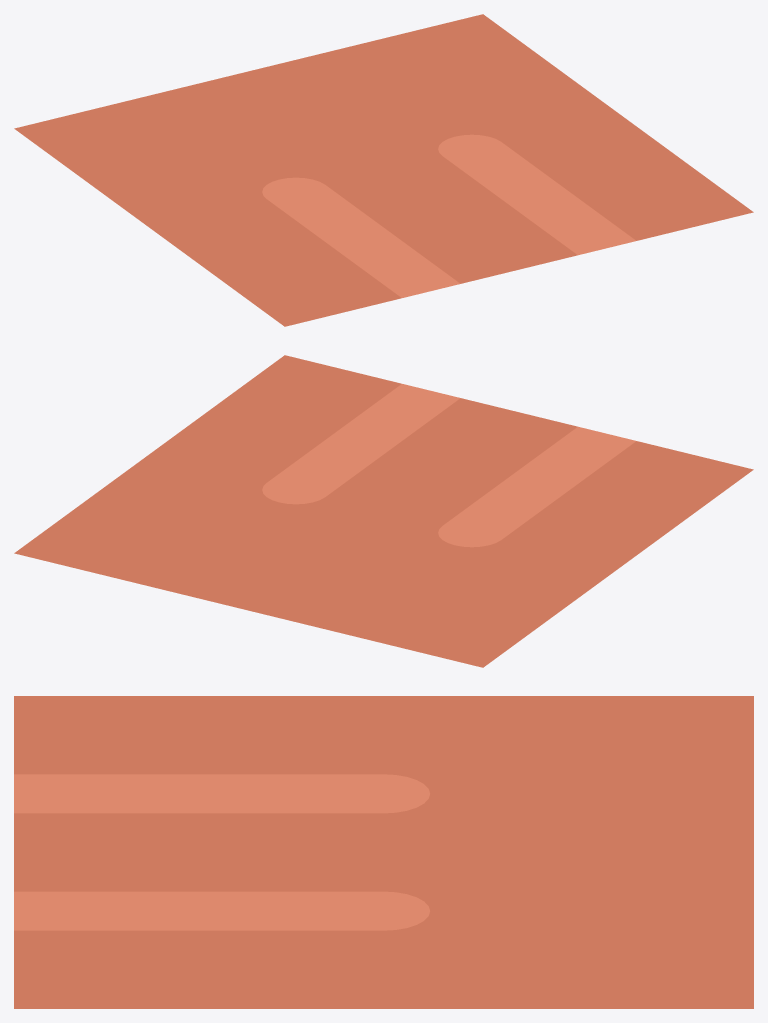
The model's file is terrain_roadEnd.glb.
3 views of the same model, one above another, from view 1: azimuth 30°, elevation 25°; view 2: azimuth 150°, elevation 25°; view 3: azimuth 270°, elevation 25° (orthographic). The views are drawn at different scales.
Visible parts, largest first — view 1: terrain_roadEnd; view 2: terrain_roadEnd; view 3: terrain_roadEnd.
Boxes of the visible parts, x1=… form: terrain_roadEnd: x1=14, y1=14, x2=753, y2=326; terrain_roadEnd: x1=14, y1=355, x2=753, y2=667; terrain_roadEnd: x1=14, y1=696, x2=753, y2=1008.
Bounding box in the file's own units: 1 × 0 × 1.
